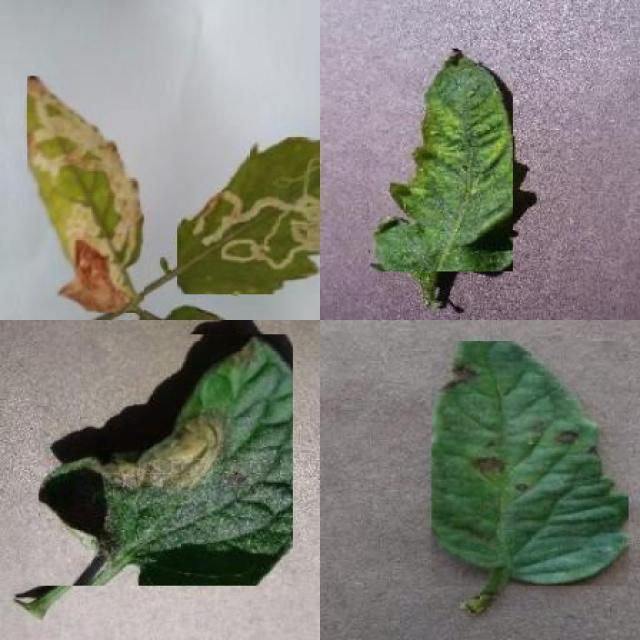Early Blight: (432, 340, 628, 586)
Late Blight: (38, 334, 293, 586)
Leaf Miner: (28, 76, 145, 314), (177, 138, 320, 295)
Mosaic Virus: (370, 48, 513, 272)
